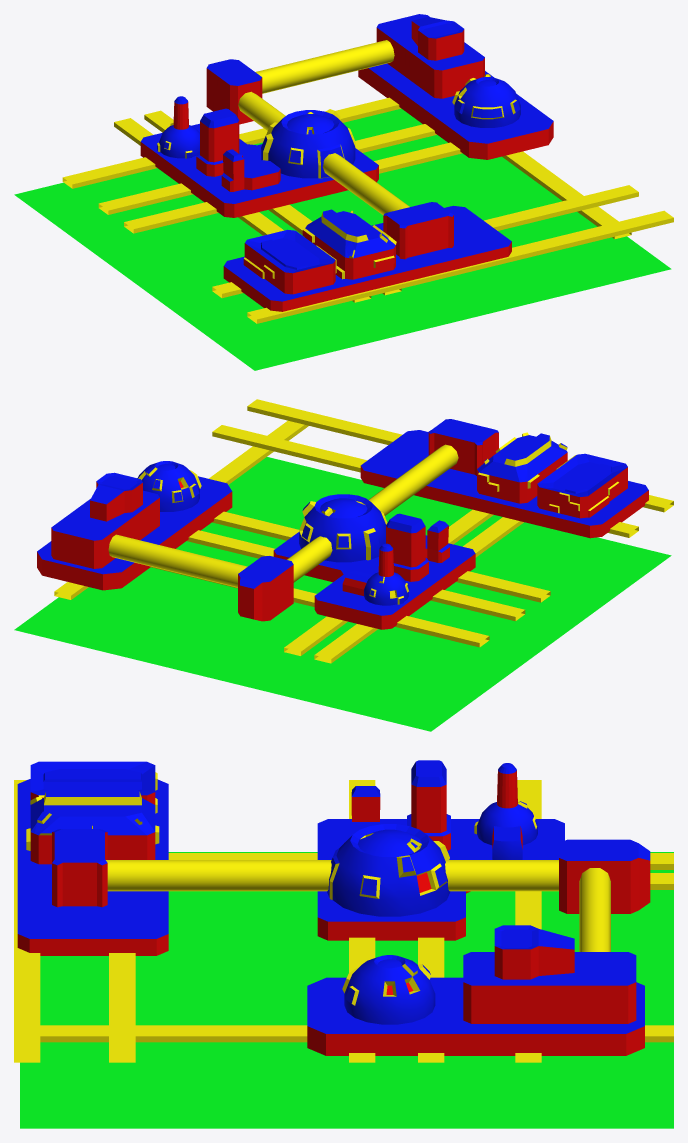
File: mesh_space_estation_01.FBX
3 views of the same model, one above another, from view 1: azimuth 30°, elevation 25°; view 2: azimuth 150°, elevation 25°; view 3: azimuth 270°, elevation 25° (orthographic). The views are drawn at different scales.
Parts seen in each view (by area): view 1: space_estation_01; view 2: space_estation_01; view 3: space_estation_01.
Boxes of the visible parts, bbox=[...] form: space_estation_01: bbox=[14, 14, 673, 370]; space_estation_01: bbox=[14, 399, 673, 731]; space_estation_01: bbox=[14, 760, 673, 1128].
Size of the model in its own units: 20 by 5.4 by 20.18.
